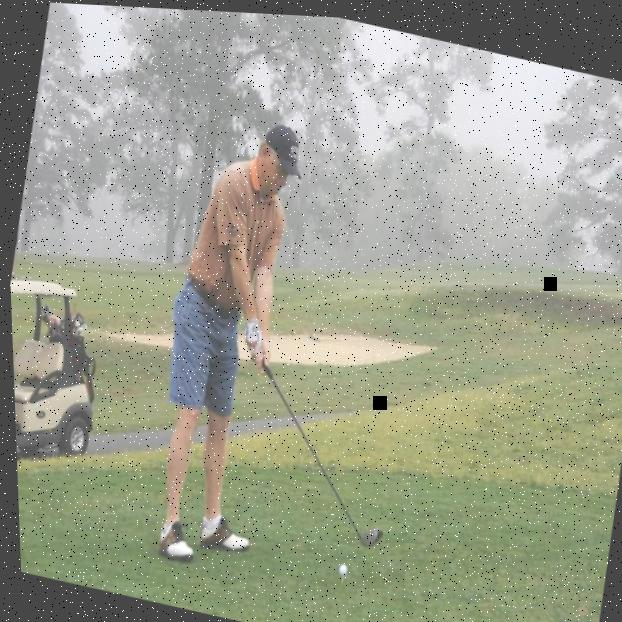ClubHead: (334, 500, 391, 554)
GolfBall: (327, 556, 350, 575)
